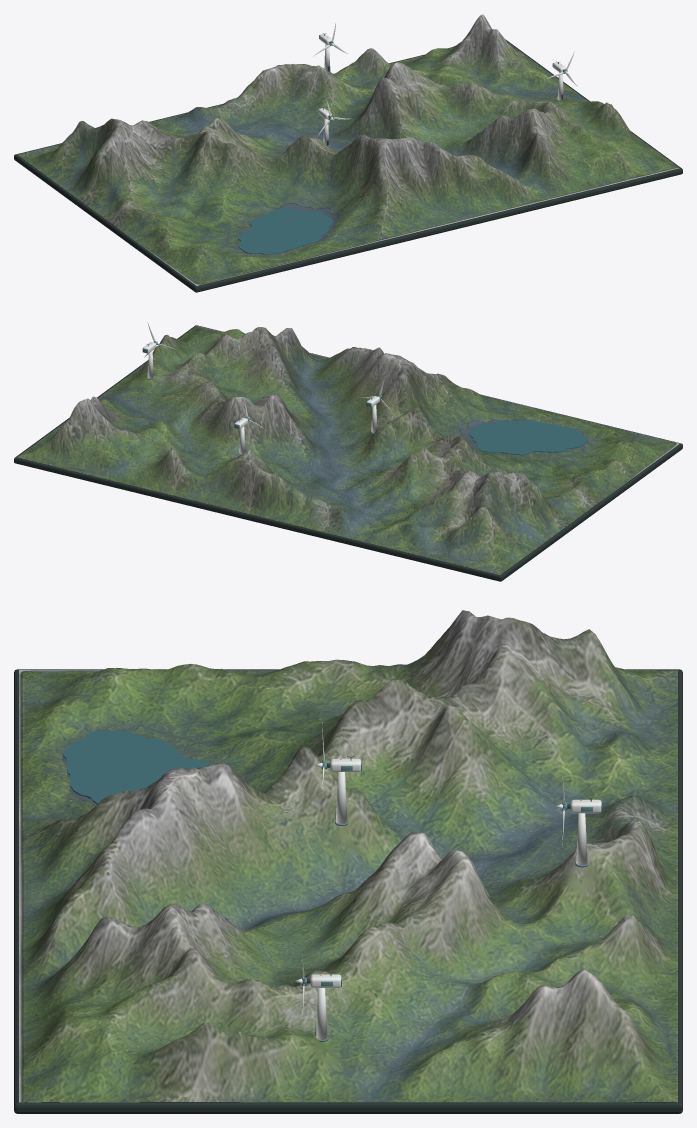
Rendered from B_windfarm_terrain_low_quantized.glb.
3 renders of one model, top to bottom at view 1: azimuth 30°, elevation 25°; view 2: azimuth 150°, elevation 25°; view 3: azimuth 270°, elevation 25°, orthographic. The views are drawn at different scales.
Parts seen in each view (by area): view 1: PART__TERRAIN, PART__BASE, PART__LAKE; view 2: PART__TERRAIN, PART__BASE, PART__LAKE; view 3: PART__TERRAIN, PART__BASE, PART__LAKE, MESH__TURBINE_BODY_01, MESH__TURBINE_BODY_02, MESH__TURBINE_BODY_03.
Part boxes in pixels (x1,y1,x2,y2): PART__TERRAIN: [17, 14, 679, 285]; PART__BASE: [14, 39, 682, 292]; PART__LAKE: [238, 208, 332, 254]; PART__TERRAIN: [17, 326, 679, 574]; PART__BASE: [14, 325, 682, 581]; PART__LAKE: [468, 420, 587, 455]; PART__TERRAIN: [19, 610, 677, 1102]; PART__BASE: [14, 669, 682, 1113]; PART__LAKE: [62, 730, 210, 804]; MESH__TURBINE_BODY_01: [567, 797, 602, 867]; MESH__TURBINE_BODY_02: [327, 756, 361, 825]; MESH__TURBINE_BODY_03: [307, 972, 341, 1041].
Bounding box in the file's own units: 14.14 × 2.53 × 9.16.
Materials: 8 (1 with a texture image).
